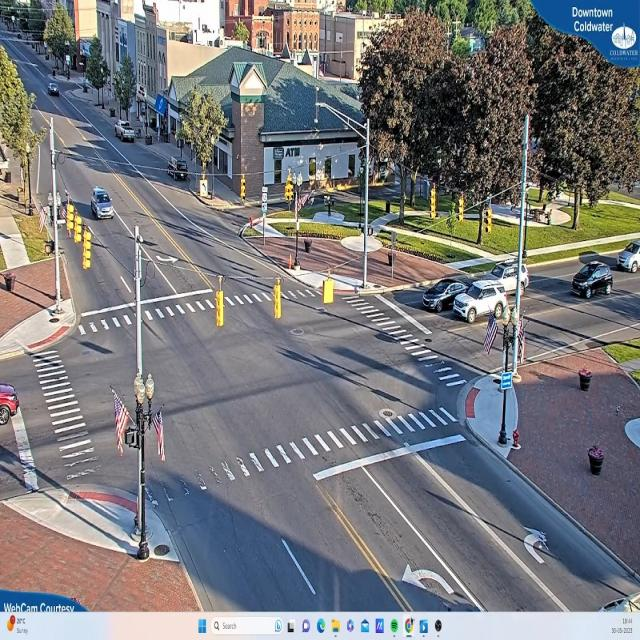car: (453, 285, 509, 325), (422, 279, 476, 312), (482, 264, 530, 298), (572, 262, 614, 300), (1, 384, 22, 423), (617, 238, 640, 272), (91, 188, 114, 220), (117, 120, 138, 142), (49, 84, 61, 97)
